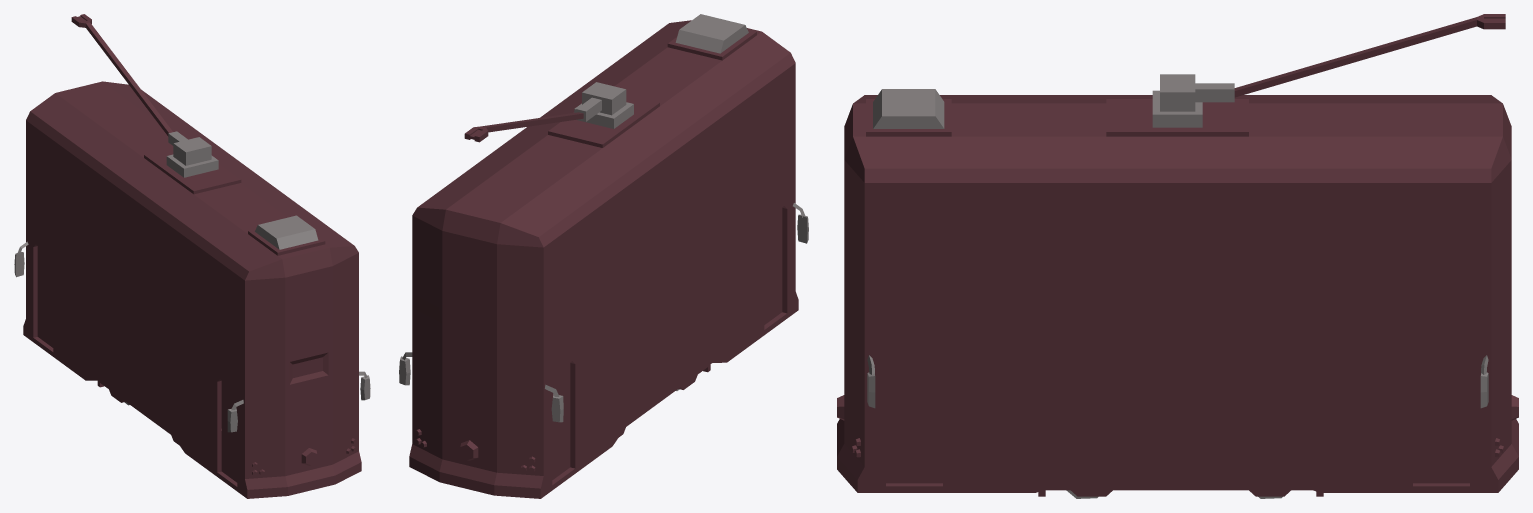
File: tram-china.fbx
3 renders of one model, left to right at view 1: azimuth 30°, elevation 25°; view 2: azimuth 150°, elevation 25°; view 3: azimuth 270°, elevation 25°, orthographic. The views are drawn at different scales.
Visible parts, largest first — view 1: tram-china-base; view 2: tram-china-base; view 3: tram-china-base.
Boxes of the visible parts, x1,y1,x2,y2 form: tram-china-base: (14, 14, 370, 498); tram-china-base: (399, 14, 808, 498); tram-china-base: (837, 14, 1518, 496).
Size of the model in its own units: 3.28 by 7.11 by 9.56.
